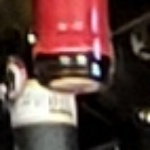bottle: (14, 15, 128, 122)
